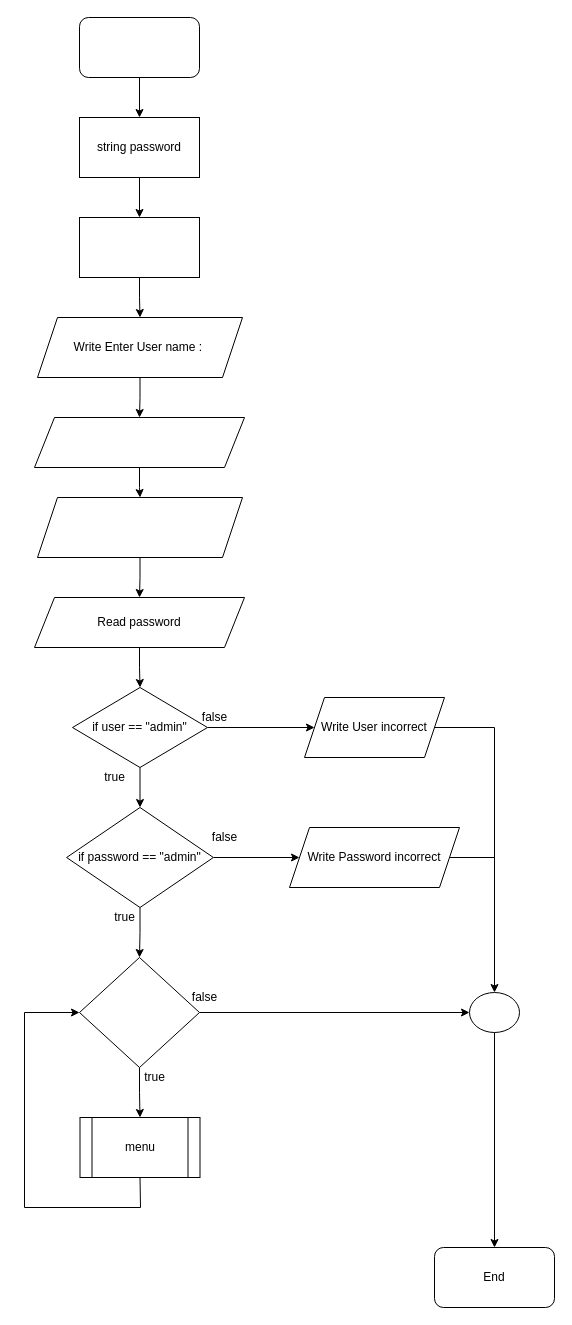
Image size: 572x1325. Some labels were removed from this diagram. Here are the shapes that lost their labels. From the top down, the centre of each, then its label:
At (139,47): "Start".
At (139,247): "string user".
At (139,442): "Read user".
At (139,527): "Write Enter Password :".
At (139,1012): "While true".
